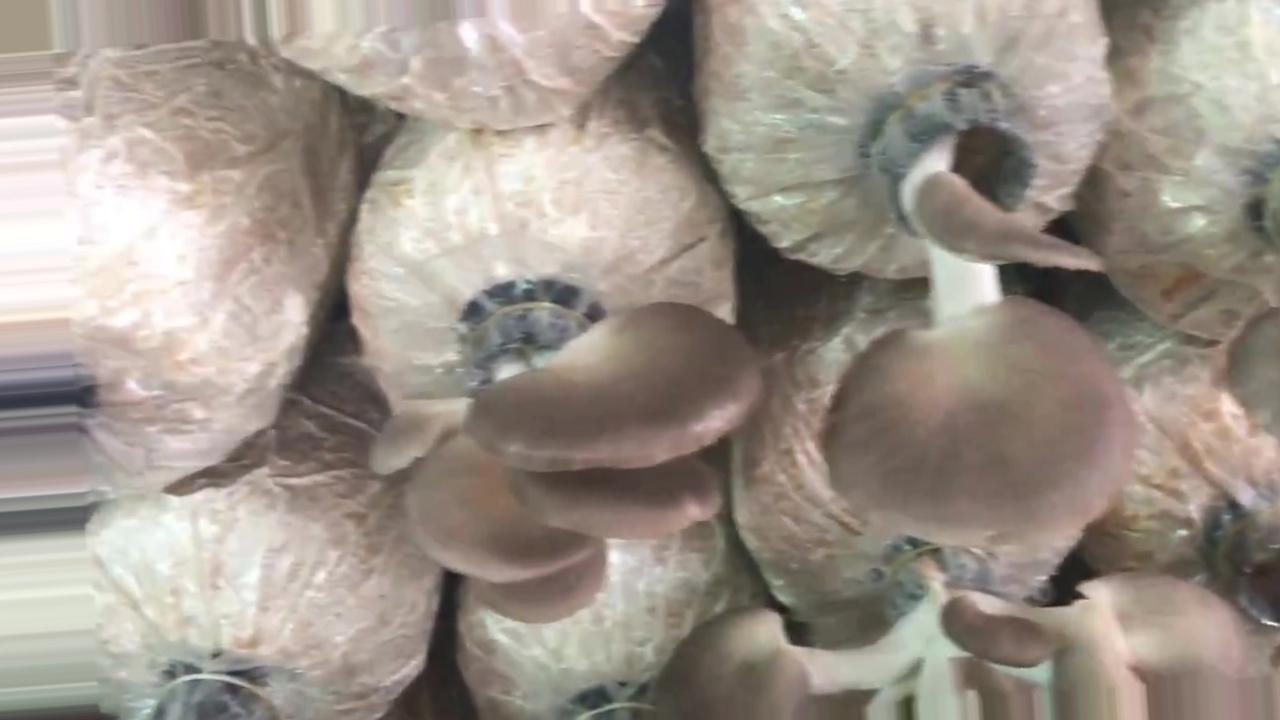nam: (814, 62, 1132, 553), (367, 289, 764, 623), (646, 548, 1278, 720)
